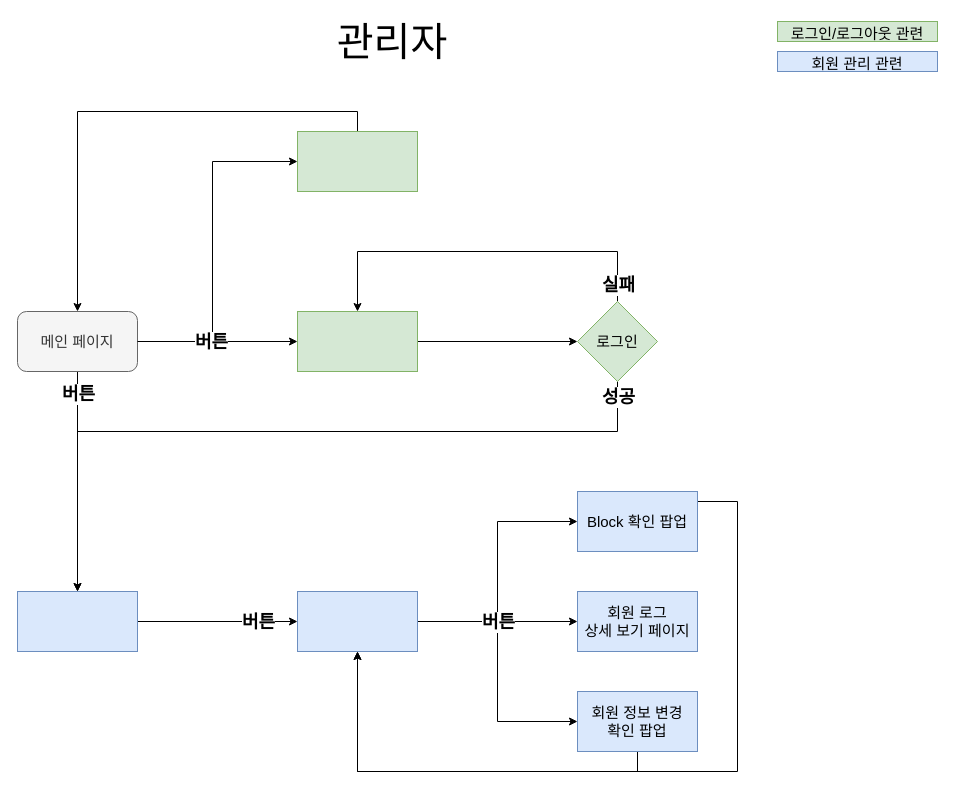
The diagram is 955 pixels wide and 797 high, and some of its shapes have lost their labels. Here are the shapes that lost their labels. From the top down, the centre of each, then its label:
At (357,161): "로그아웃 팝업".
At (357,341): "관리자 로그인 페이지".
At (77,621): "회원 정보 리스트 페이지".
At (357,621): "회원 정보 상세 페이지".
